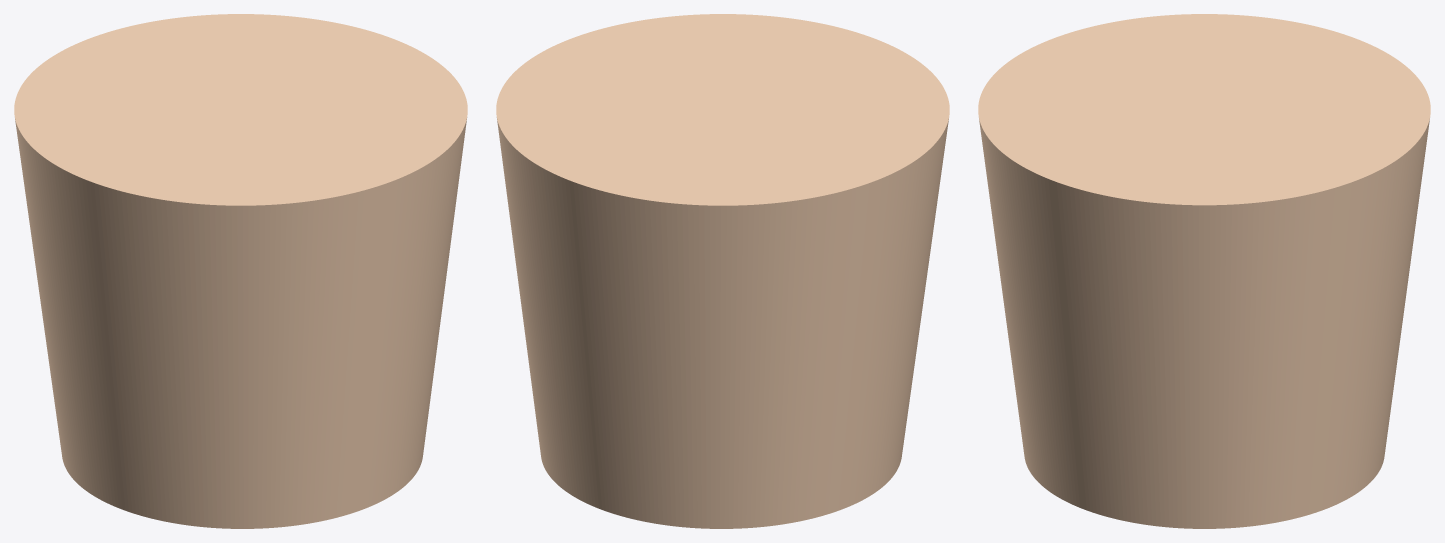
Rendered from LiquidTea_Visual.fbx.
3 renders of one model, left to right at view 1: azimuth 30°, elevation 25°; view 2: azimuth 150°, elevation 25°; view 3: azimuth 270°, elevation 25°, orthographic.
Visible parts, largest first — view 1: Tea; view 2: Tea; view 3: Tea.
Part boxes in pixels (box(x1,y1,x2,y2)): Tea: box(14, 14, 467, 528); Tea: box(496, 14, 949, 528); Tea: box(978, 14, 1430, 528).
Bounding box in the file's own units: 32.12 × 26.81 × 32.12.
